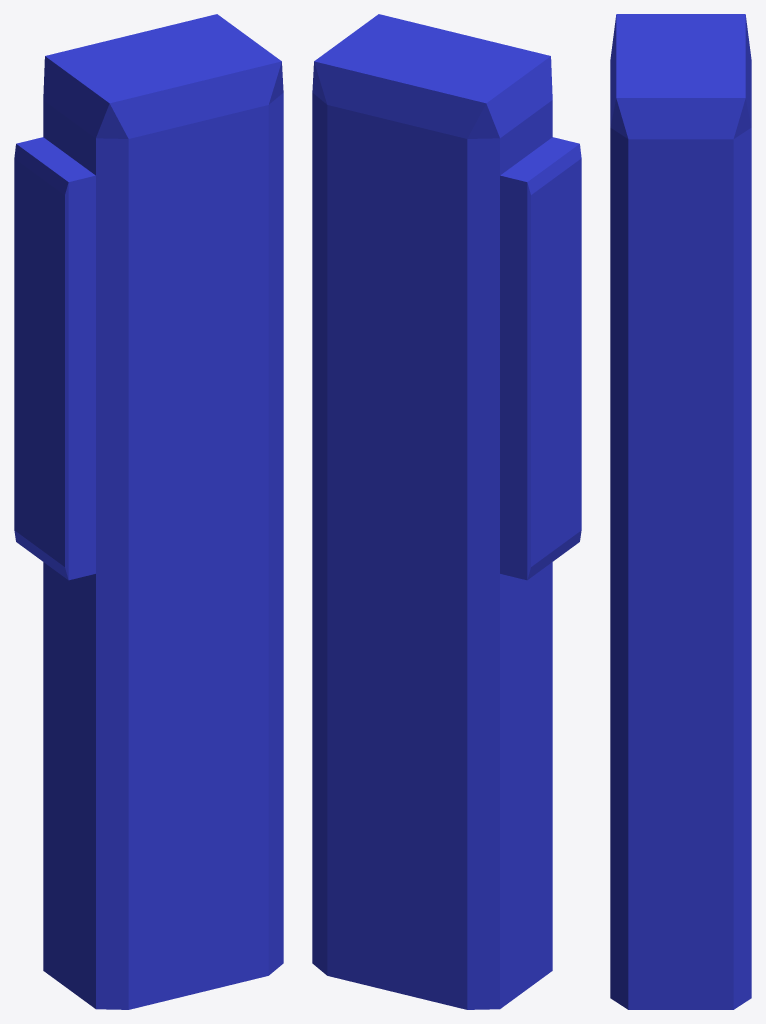
Rendered from Blue Post.fbx.
3 views of the same model, side by side, from view 1: azimuth 30°, elevation 25°; view 2: azimuth 150°, elevation 25°; view 3: azimuth 270°, elevation 25° (orthographic).
Visible parts, largest first — view 1: Metal Stand.003; view 2: Metal Stand.003; view 3: Metal Stand.003.
Boxes of the visible parts, x1,y1,x2,y2 form: Metal Stand.003: (14, 14, 283, 1009); Metal Stand.003: (312, 14, 581, 1009); Metal Stand.003: (610, 14, 751, 1009).
Bounding box in the file's own units: 232 × 925 × 130.
